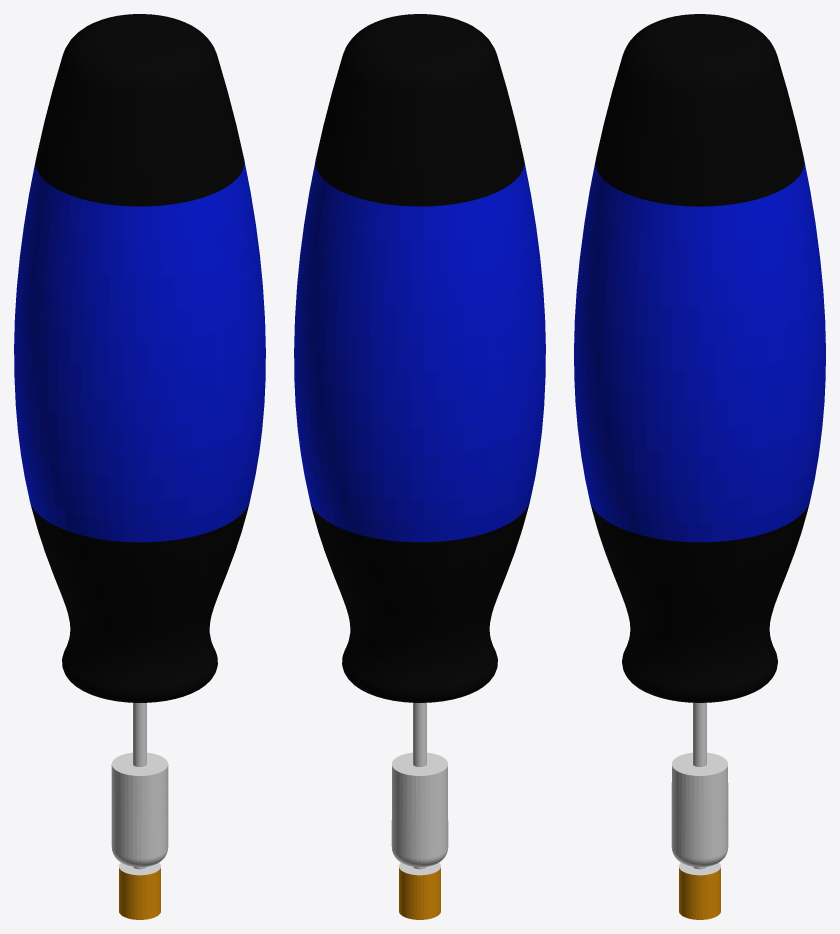
The model's file is motor C proceso .fbx.
3 renders of one model, left to right at view 1: azimuth 30°, elevation 25°; view 2: azimuth 150°, elevation 25°; view 3: azimuth 270°, elevation 25°, orthographic.
Visible parts, largest first — view 1: EnsamblajeFestoMPS - EnsamblajeFestoMPS.STEP-1 MotorC.STEP-1 (×2); view 2: EnsamblajeFestoMPS - EnsamblajeFestoMPS.STEP-1 MotorC.STEP-1 (×2); view 3: EnsamblajeFestoMPS - EnsamblajeFestoMPS.STEP-1 MotorC.STEP-1 (×2).
Boxes of the visible parts, <box> form: EnsamblajeFestoMPS - EnsamblajeFestoMPS.STEP-1 MotorC.STEP-1 (×2): <box>14,14,265,919</box>; EnsamblajeFestoMPS - EnsamblajeFestoMPS.STEP-1 MotorC.STEP-1 (×2): <box>294,14,545,919</box>; EnsamblajeFestoMPS - EnsamblajeFestoMPS.STEP-1 MotorC.STEP-1 (×2): <box>574,14,825,919</box>.
Bounding box in the file's own units: 357 × 1370 × 357.
